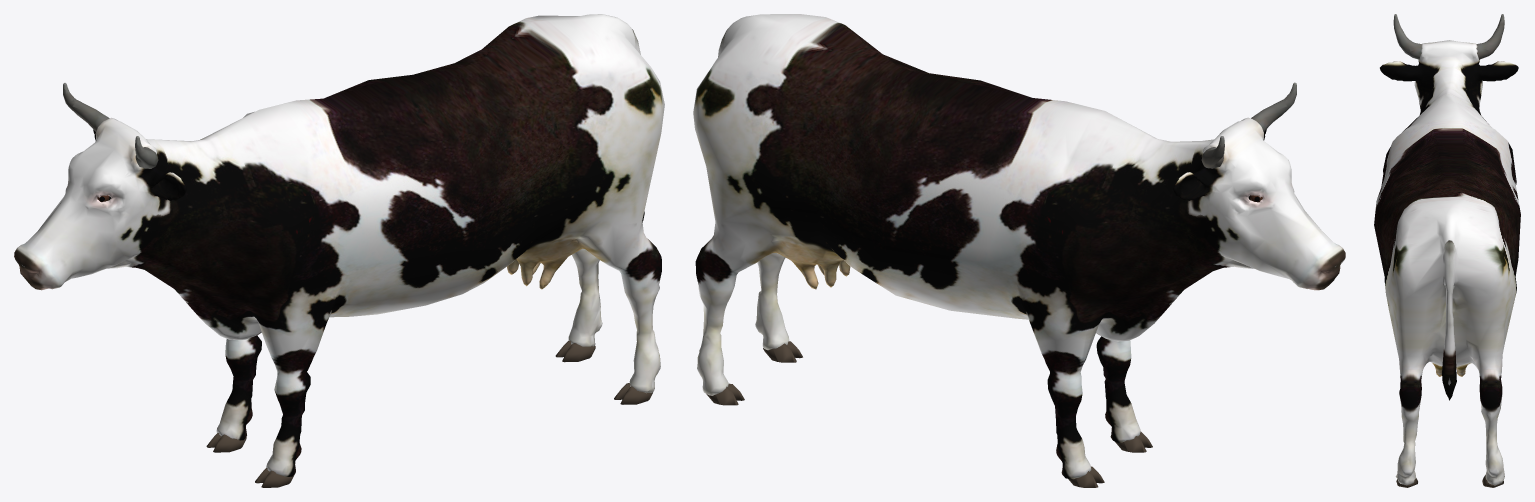
The model's file is Sigir.fbx.
3 views of the same model, side by side, from view 1: azimuth 30°, elevation 25°; view 2: azimuth 150°, elevation 25°; view 3: azimuth 270°, elevation 25° (orthographic). The views are drawn at different scales.
Visible parts, largest first — view 1: COWBODY, COWcuern; view 2: COWBODY, COWcuern; view 3: COWBODY, COWcuern.
Part boxes in pixels (x1,y1,x2,y2): COWBODY: (14, 14, 664, 476); COWcuern: (63, 83, 158, 168); COWBODY: (693, 14, 1345, 479); COWcuern: (1201, 82, 1296, 168); COWBODY: (1374, 40, 1520, 485); COWcuern: (1393, 14, 1504, 59).
Bounding box in the file's own units: 729 × 437 × 202.
4 materials, 3 textured.
